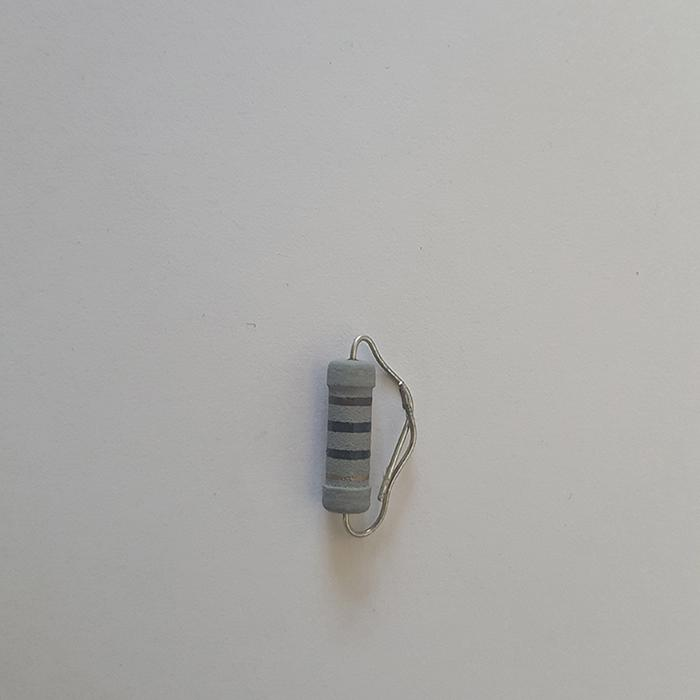resistor: (322, 357, 377, 515)
